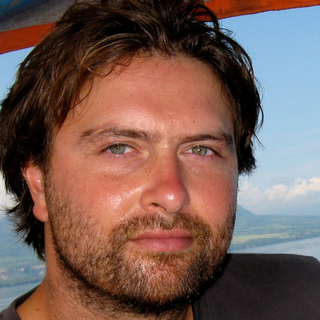eye: (97, 139, 145, 163), (180, 140, 224, 165)
